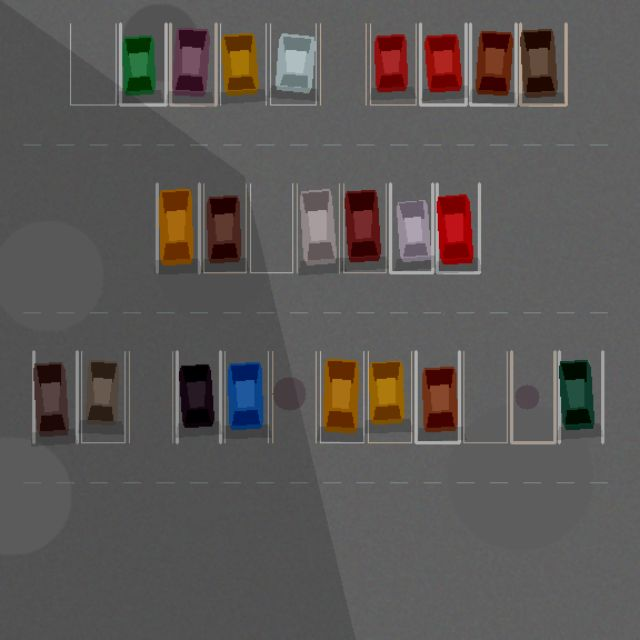space-empty: (272, 351, 316, 442), (463, 351, 507, 442), (129, 351, 172, 442), (511, 351, 554, 442), (250, 183, 292, 272), (70, 23, 116, 104), (320, 23, 366, 104)
space-occupied: (33, 351, 77, 442), (224, 351, 268, 442), (81, 351, 124, 442), (177, 351, 220, 442), (320, 351, 363, 442), (368, 351, 411, 442), (416, 351, 459, 442), (559, 351, 602, 442), (203, 183, 246, 272), (343, 183, 386, 272), (157, 183, 199, 272), (297, 183, 339, 272), (390, 183, 432, 272), (437, 183, 479, 272), (120, 23, 166, 104), (170, 23, 216, 104), (220, 23, 266, 104), (270, 23, 316, 104), (370, 23, 416, 104), (420, 23, 466, 104), (470, 23, 516, 104), (520, 23, 566, 104)
